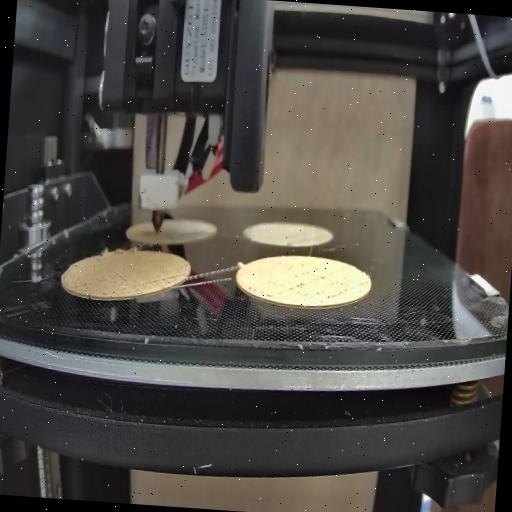under_extrusion: (286, 264, 366, 304), (74, 262, 128, 296), (141, 272, 181, 292), (246, 284, 276, 304)
